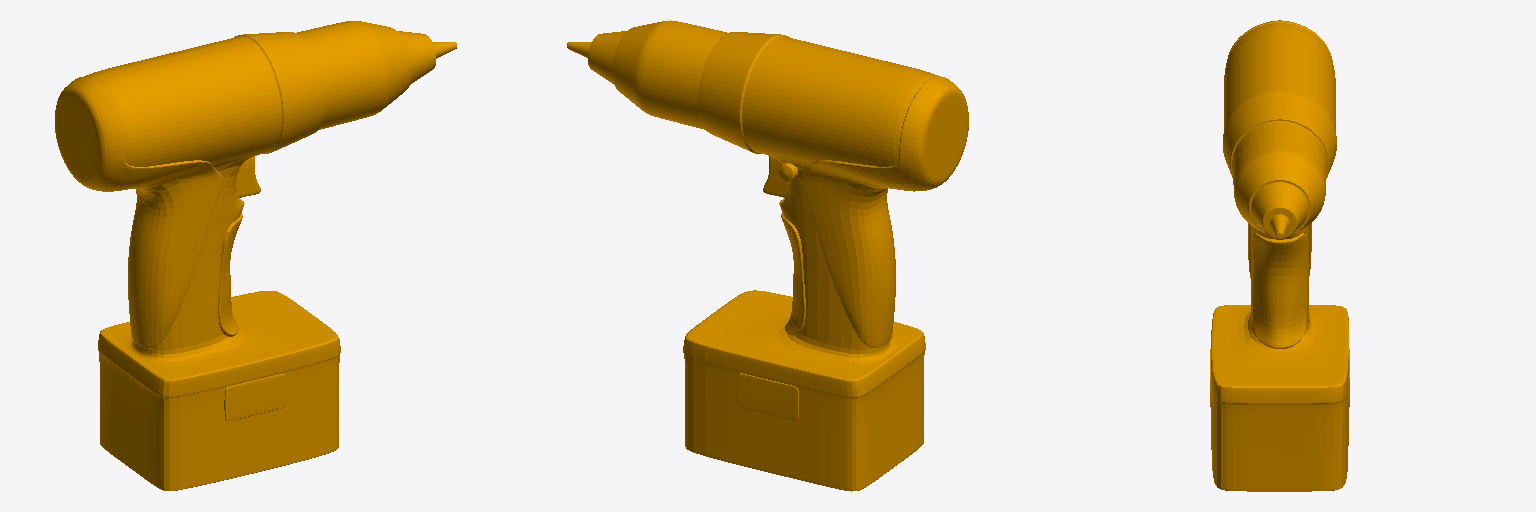
URDF robot description (site):
<?xml version="1.0"?>
<robot name="site">
  <link name="base">
    <visual>
      <geometry>
        <mesh filename="assets/downsampled_16k.obj" />
      </geometry>
    </visual>
  </link>
</robot>

--- Facts derived from the render (not from the file) ---
3 views of the same robot in one strip: view 1: azimuth 30°, elevation 25°; view 2: azimuth 150°, elevation 25°; view 3: azimuth 270°, elevation 25° (orthographic).
Robot: site — 1 links, 0 joints (none); root link base; default pose: every joint at zero.
Visible links, largest first — view 1: base; view 2: base; view 3: base.
Link boxes in pixels (left/top/right/bottom): base: left=55, top=21, right=456, bottom=490; base: left=567, top=20, right=968, bottom=491; base: left=1210, top=20, right=1349, bottom=491.
Size in the robot's own frame: 0.2579 by 0.0885 by 0.2602 metres.
1 mesh visuals loaded from 1 distinct referenced files (1 OBJ).